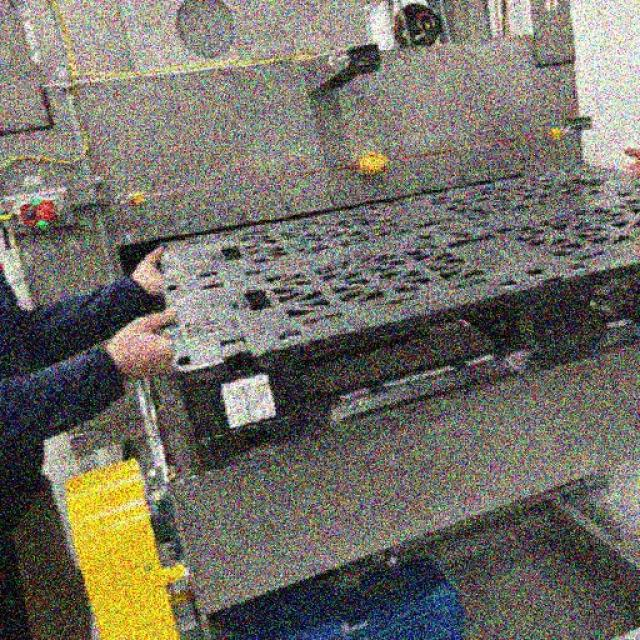igps: (140, 150, 640, 481)
